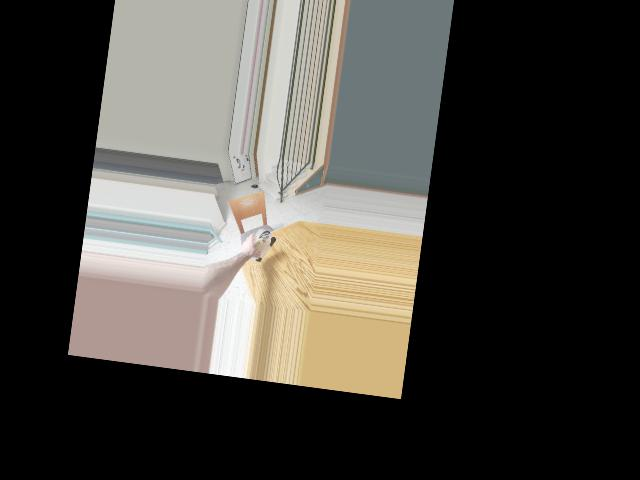cheese: (240, 226, 277, 266)
